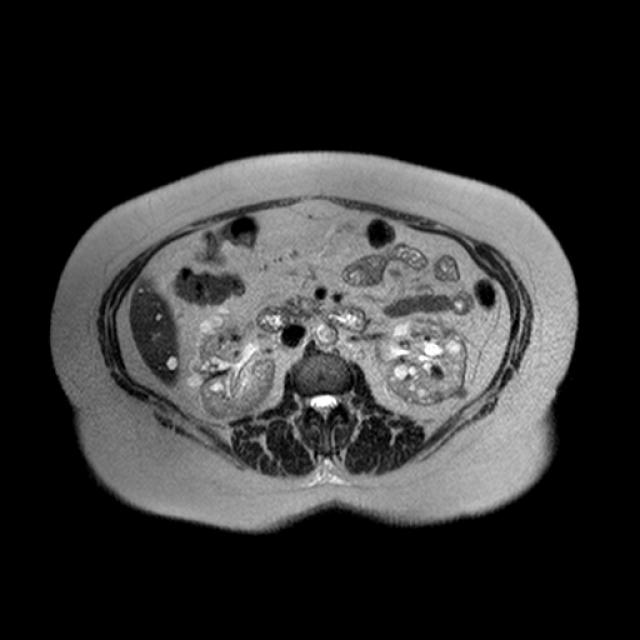sag: (186, 308, 275, 423)
sol: (372, 316, 468, 408)
